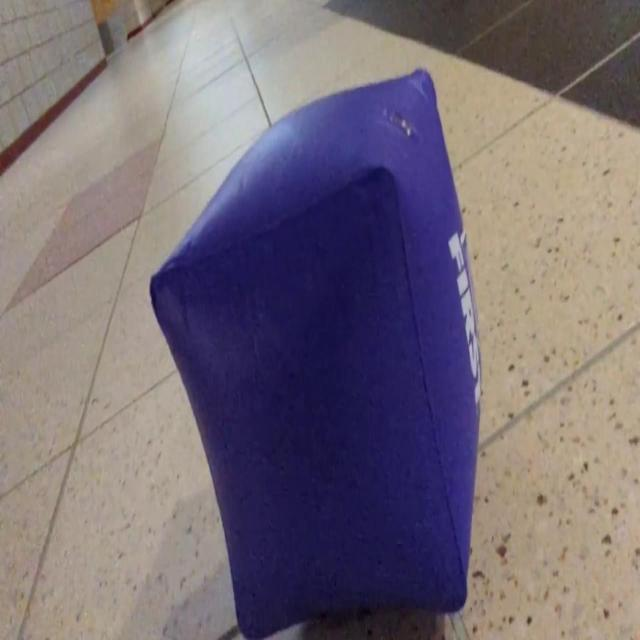frc_cube: (149, 67, 482, 640)
